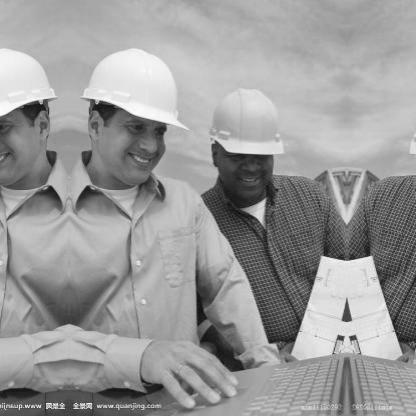helmet: (73, 40, 190, 195), (196, 74, 293, 205), (0, 39, 66, 195)
